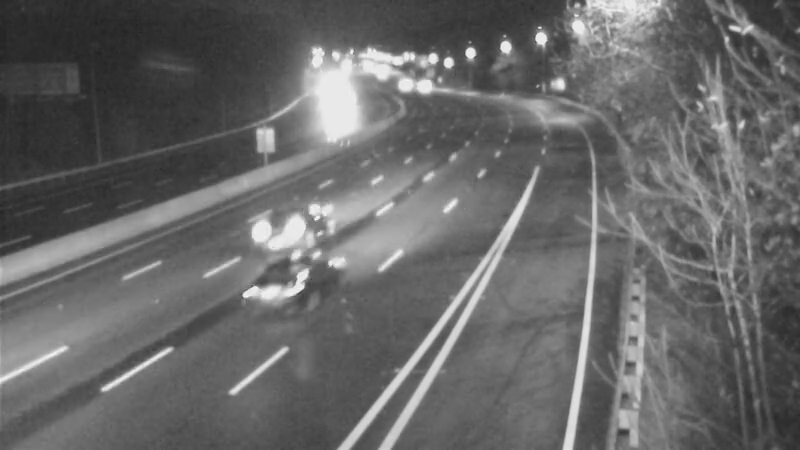vehicle: (240, 189, 320, 269), (248, 247, 328, 327), (377, 55, 427, 105), (401, 59, 451, 109)
